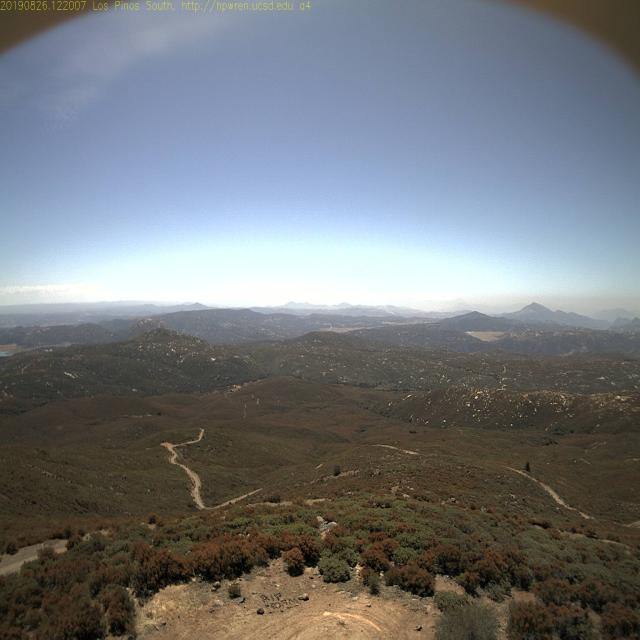smoke: (384, 306, 397, 320)
